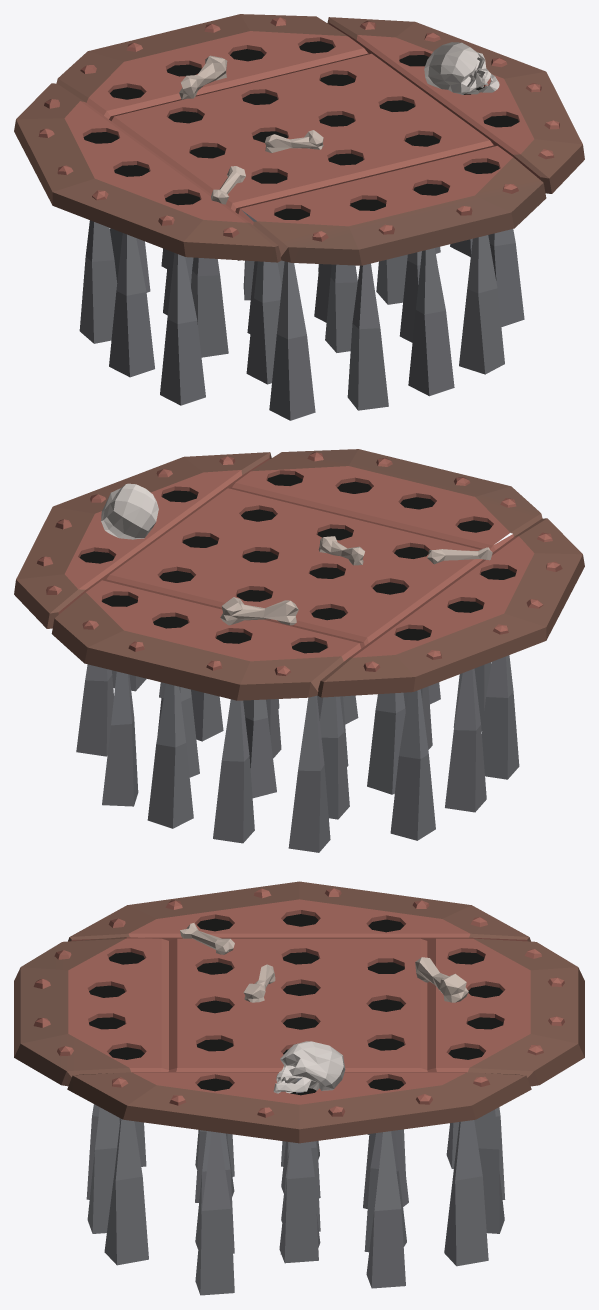
The model's file is spikeTrapBase.fbx.
The picture shows the model from 3 angles, top to bottom: view 1: azimuth 30°, elevation 25°; view 2: azimuth 150°, elevation 25°; view 3: azimuth 270°, elevation 25°; orthographic projection. The views are drawn at different scales.
Visible parts, largest first — view 1: spikeTrapBase, spikeTrapMain; view 2: spikeTrapBase, spikeTrapMain; view 3: spikeTrapBase, spikeTrapMain.
Boxes of the visible parts, box(x1,y1,x2,y2) form: spikeTrapBase: box(14, 14, 584, 265); spikeTrapMain: box(79, 42, 524, 420); spikeTrapBase: box(14, 449, 584, 700); spikeTrapMain: box(76, 483, 519, 852); spikeTrapBase: box(14, 881, 584, 1143); spikeTrapMain: box(86, 1041, 505, 1295).
Size of the model in its own units: 4.35 by 2.02 by 4.24.
